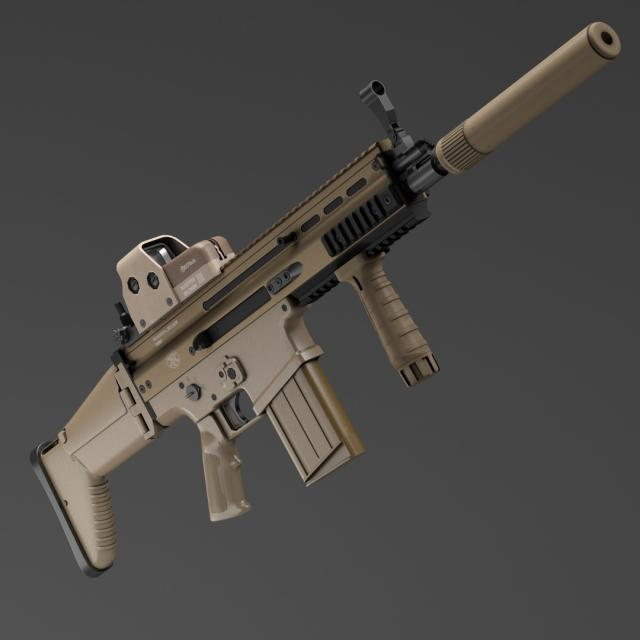Gun: (0, 0, 623, 578), (26, 190, 28, 195)
